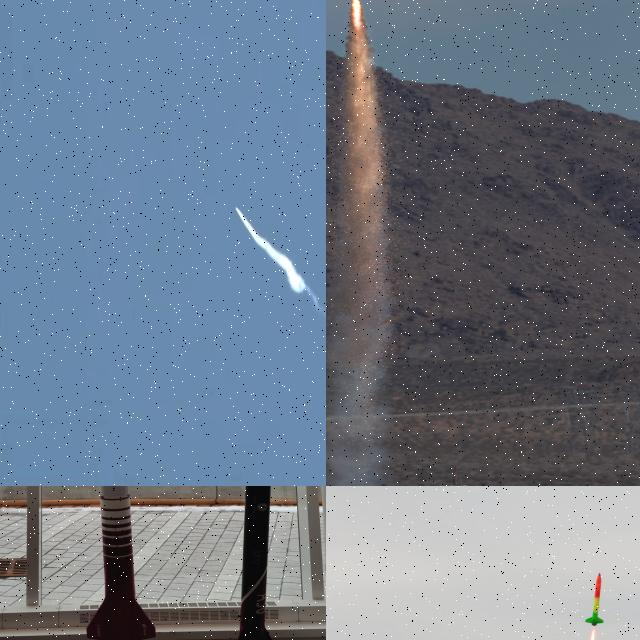Rocket: (86, 486, 156, 640), (237, 486, 272, 640), (584, 572, 604, 626), (234, 207, 236, 210)
